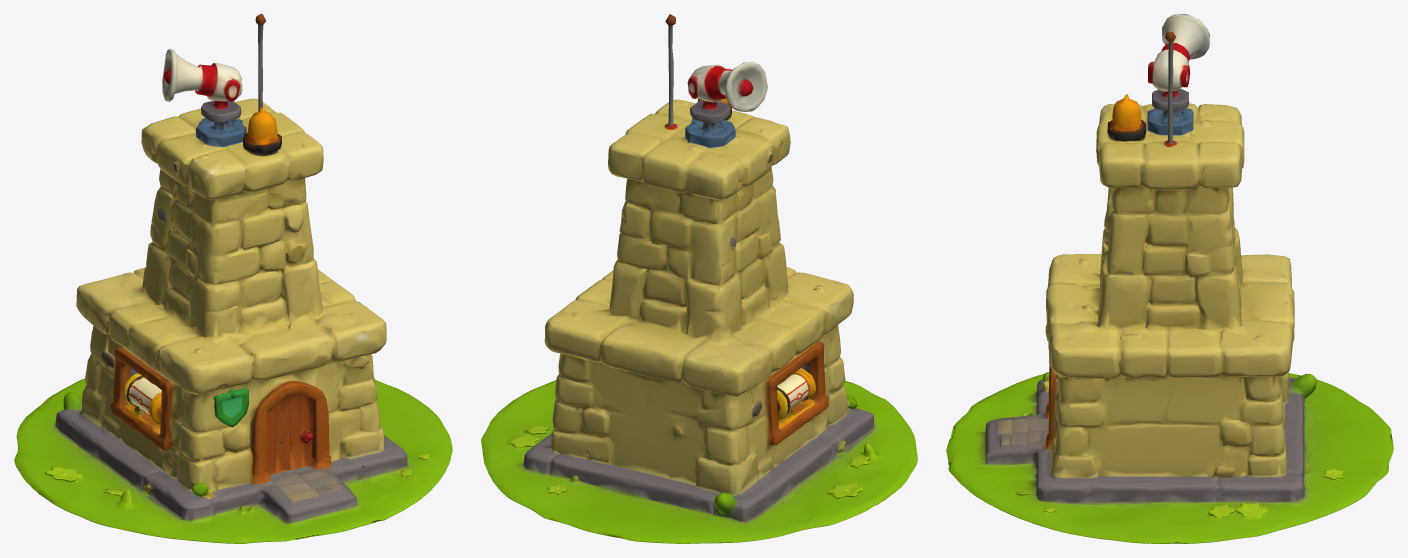
File: warning_tower_raw.glb
3 renders of one model, left to right at view 1: azimuth 30°, elevation 25°; view 2: azimuth 150°, elevation 25°; view 3: azimuth 270°, elevation 25°, orthographic.
Parts seen in each view (by area): view 1: tripo_node_426da9a7-0f61-47fc-b19a-72fe1271bc80; view 2: tripo_node_426da9a7-0f61-47fc-b19a-72fe1271bc80; view 3: tripo_node_426da9a7-0f61-47fc-b19a-72fe1271bc80.
Boxes of the visible parts, x1,y1,x2,y2 form: tripo_node_426da9a7-0f61-47fc-b19a-72fe1271bc80: (14,14,452,543); tripo_node_426da9a7-0f61-47fc-b19a-72fe1271bc80: (481,14,917,543); tripo_node_426da9a7-0f61-47fc-b19a-72fe1271bc80: (946,14,1393,543).
Bounding box in the file's own units: 0.9273 × 1 × 0.9356.
Materials: 1 (1 with a texture image).
